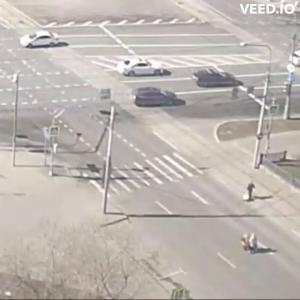car: (135, 88, 187, 110), (194, 69, 246, 90), (22, 32, 71, 50), (122, 62, 161, 78)
